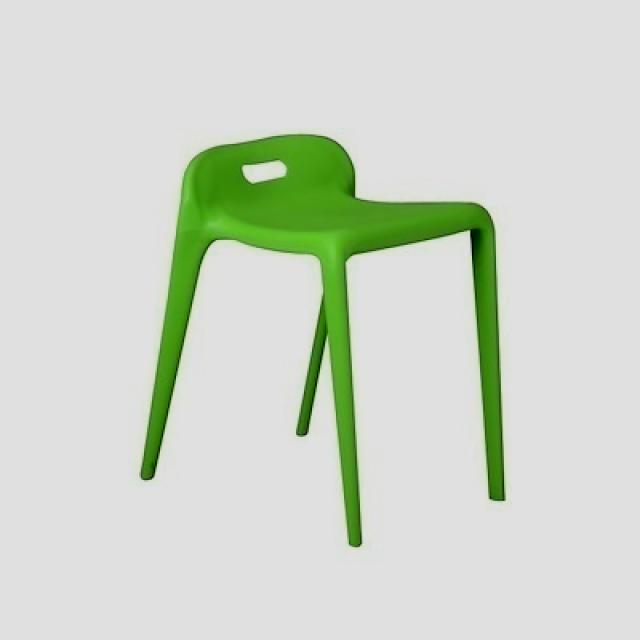Chair: (137, 129, 513, 555)
